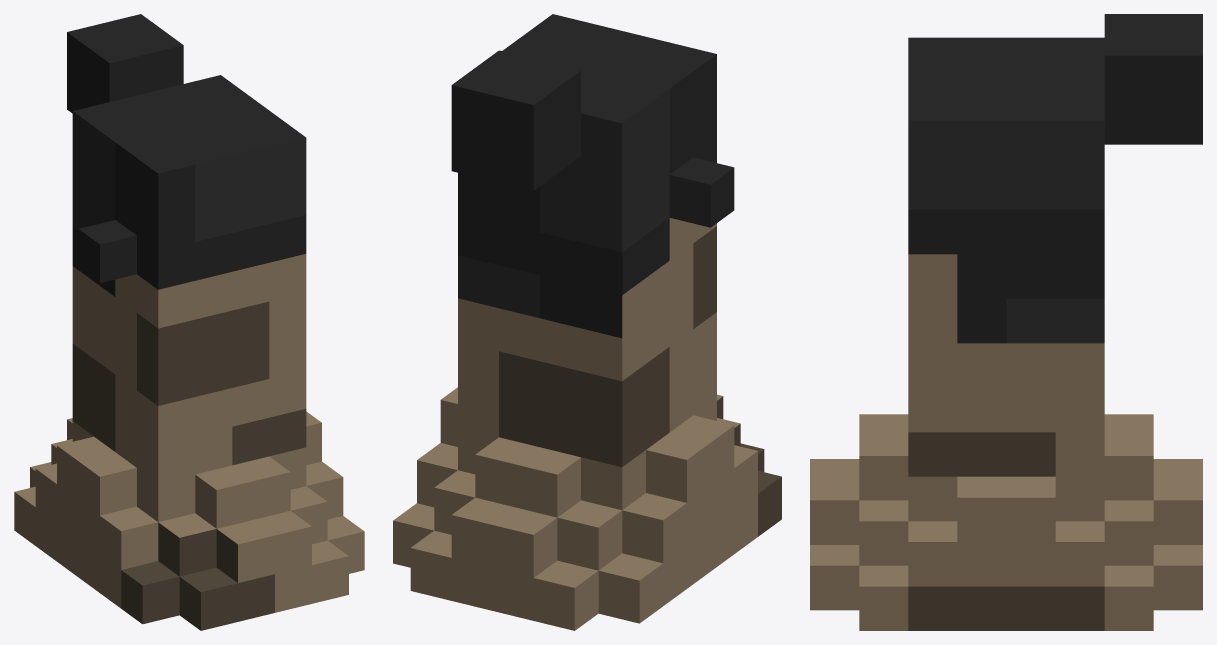
Rendered from tree_medium_burned_0.fbx.
The picture shows the model from 3 angles, left to right: view 1: azimuth 30°, elevation 25°; view 2: azimuth 150°, elevation 25°; view 3: azimuth 270°, elevation 25°; orthographic projection. The views are drawn at different scales.
Visible parts, largest first — view 1: Cube.049; view 2: Cube.049; view 3: Cube.049.
Part boxes in pixels (box(x1,y1,x2,y2)): Cube.049: box(14, 14, 364, 630); Cube.049: box(393, 14, 781, 630); Cube.049: box(810, 14, 1202, 630).
Bounding box in the file's own units: 60 × 120 × 80.
